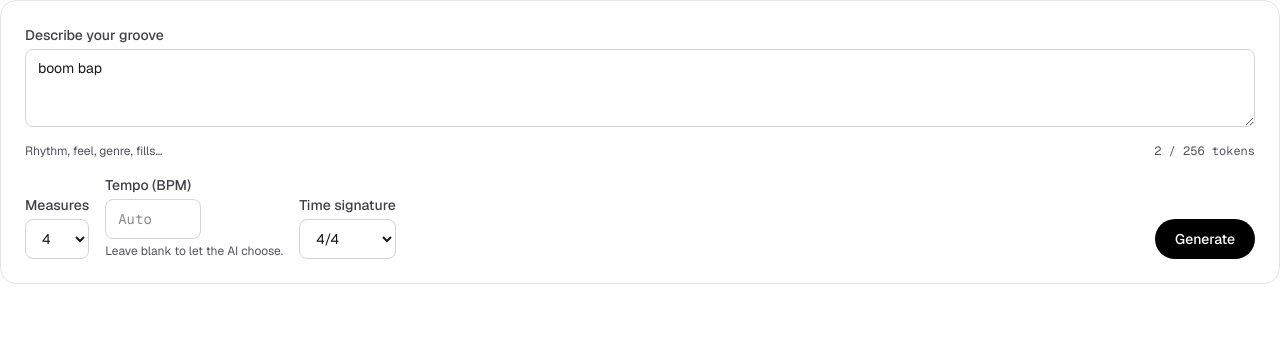
refetching the summary on api_key_* errors › PromptForm refetches on api_key_required and shows the settings link
This screenshot has width=1280, height=363.
Click the button "Generate".
click(1205, 239)  # box top-left (1155, 219), bottom-right (1255, 259)
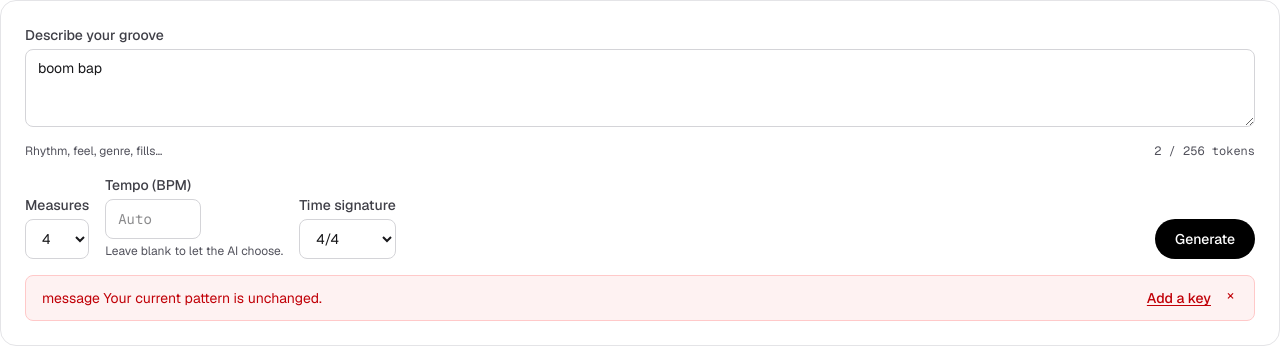
Result: the link "Add a key" is shown at top-left (1147, 288), bottom-right (1211, 308)
